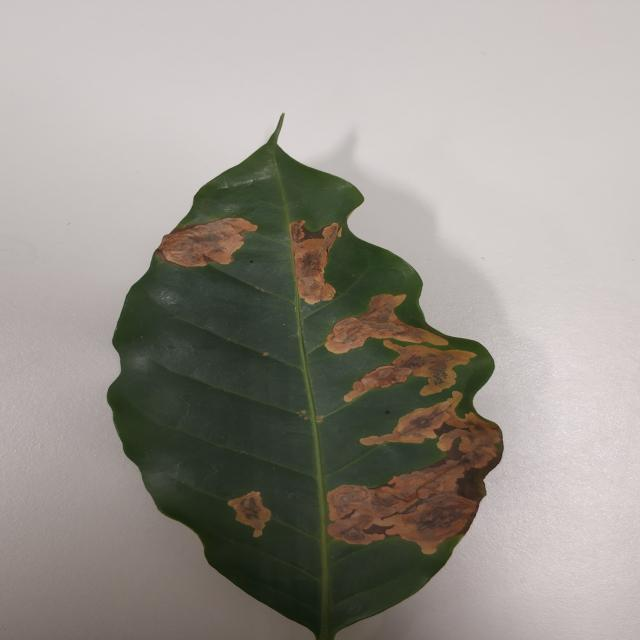Plaga-Minador: (105, 118, 505, 634)
